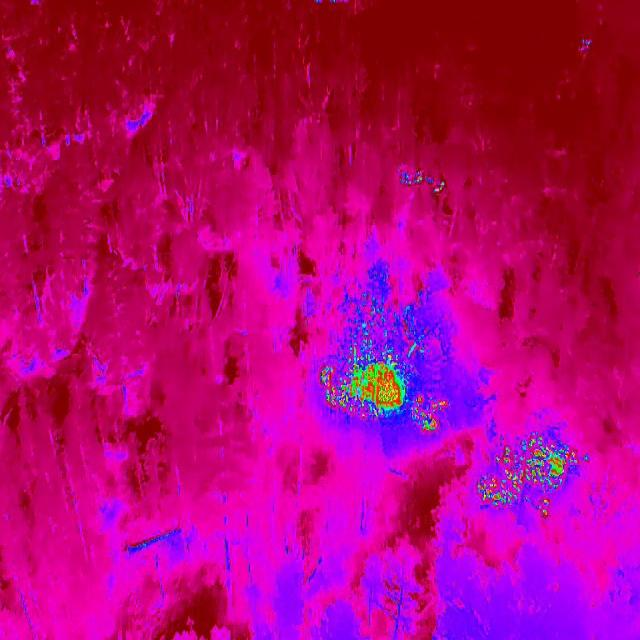fire: (476, 434, 580, 520), (318, 351, 404, 421), (410, 397, 450, 434), (413, 173, 424, 184)
